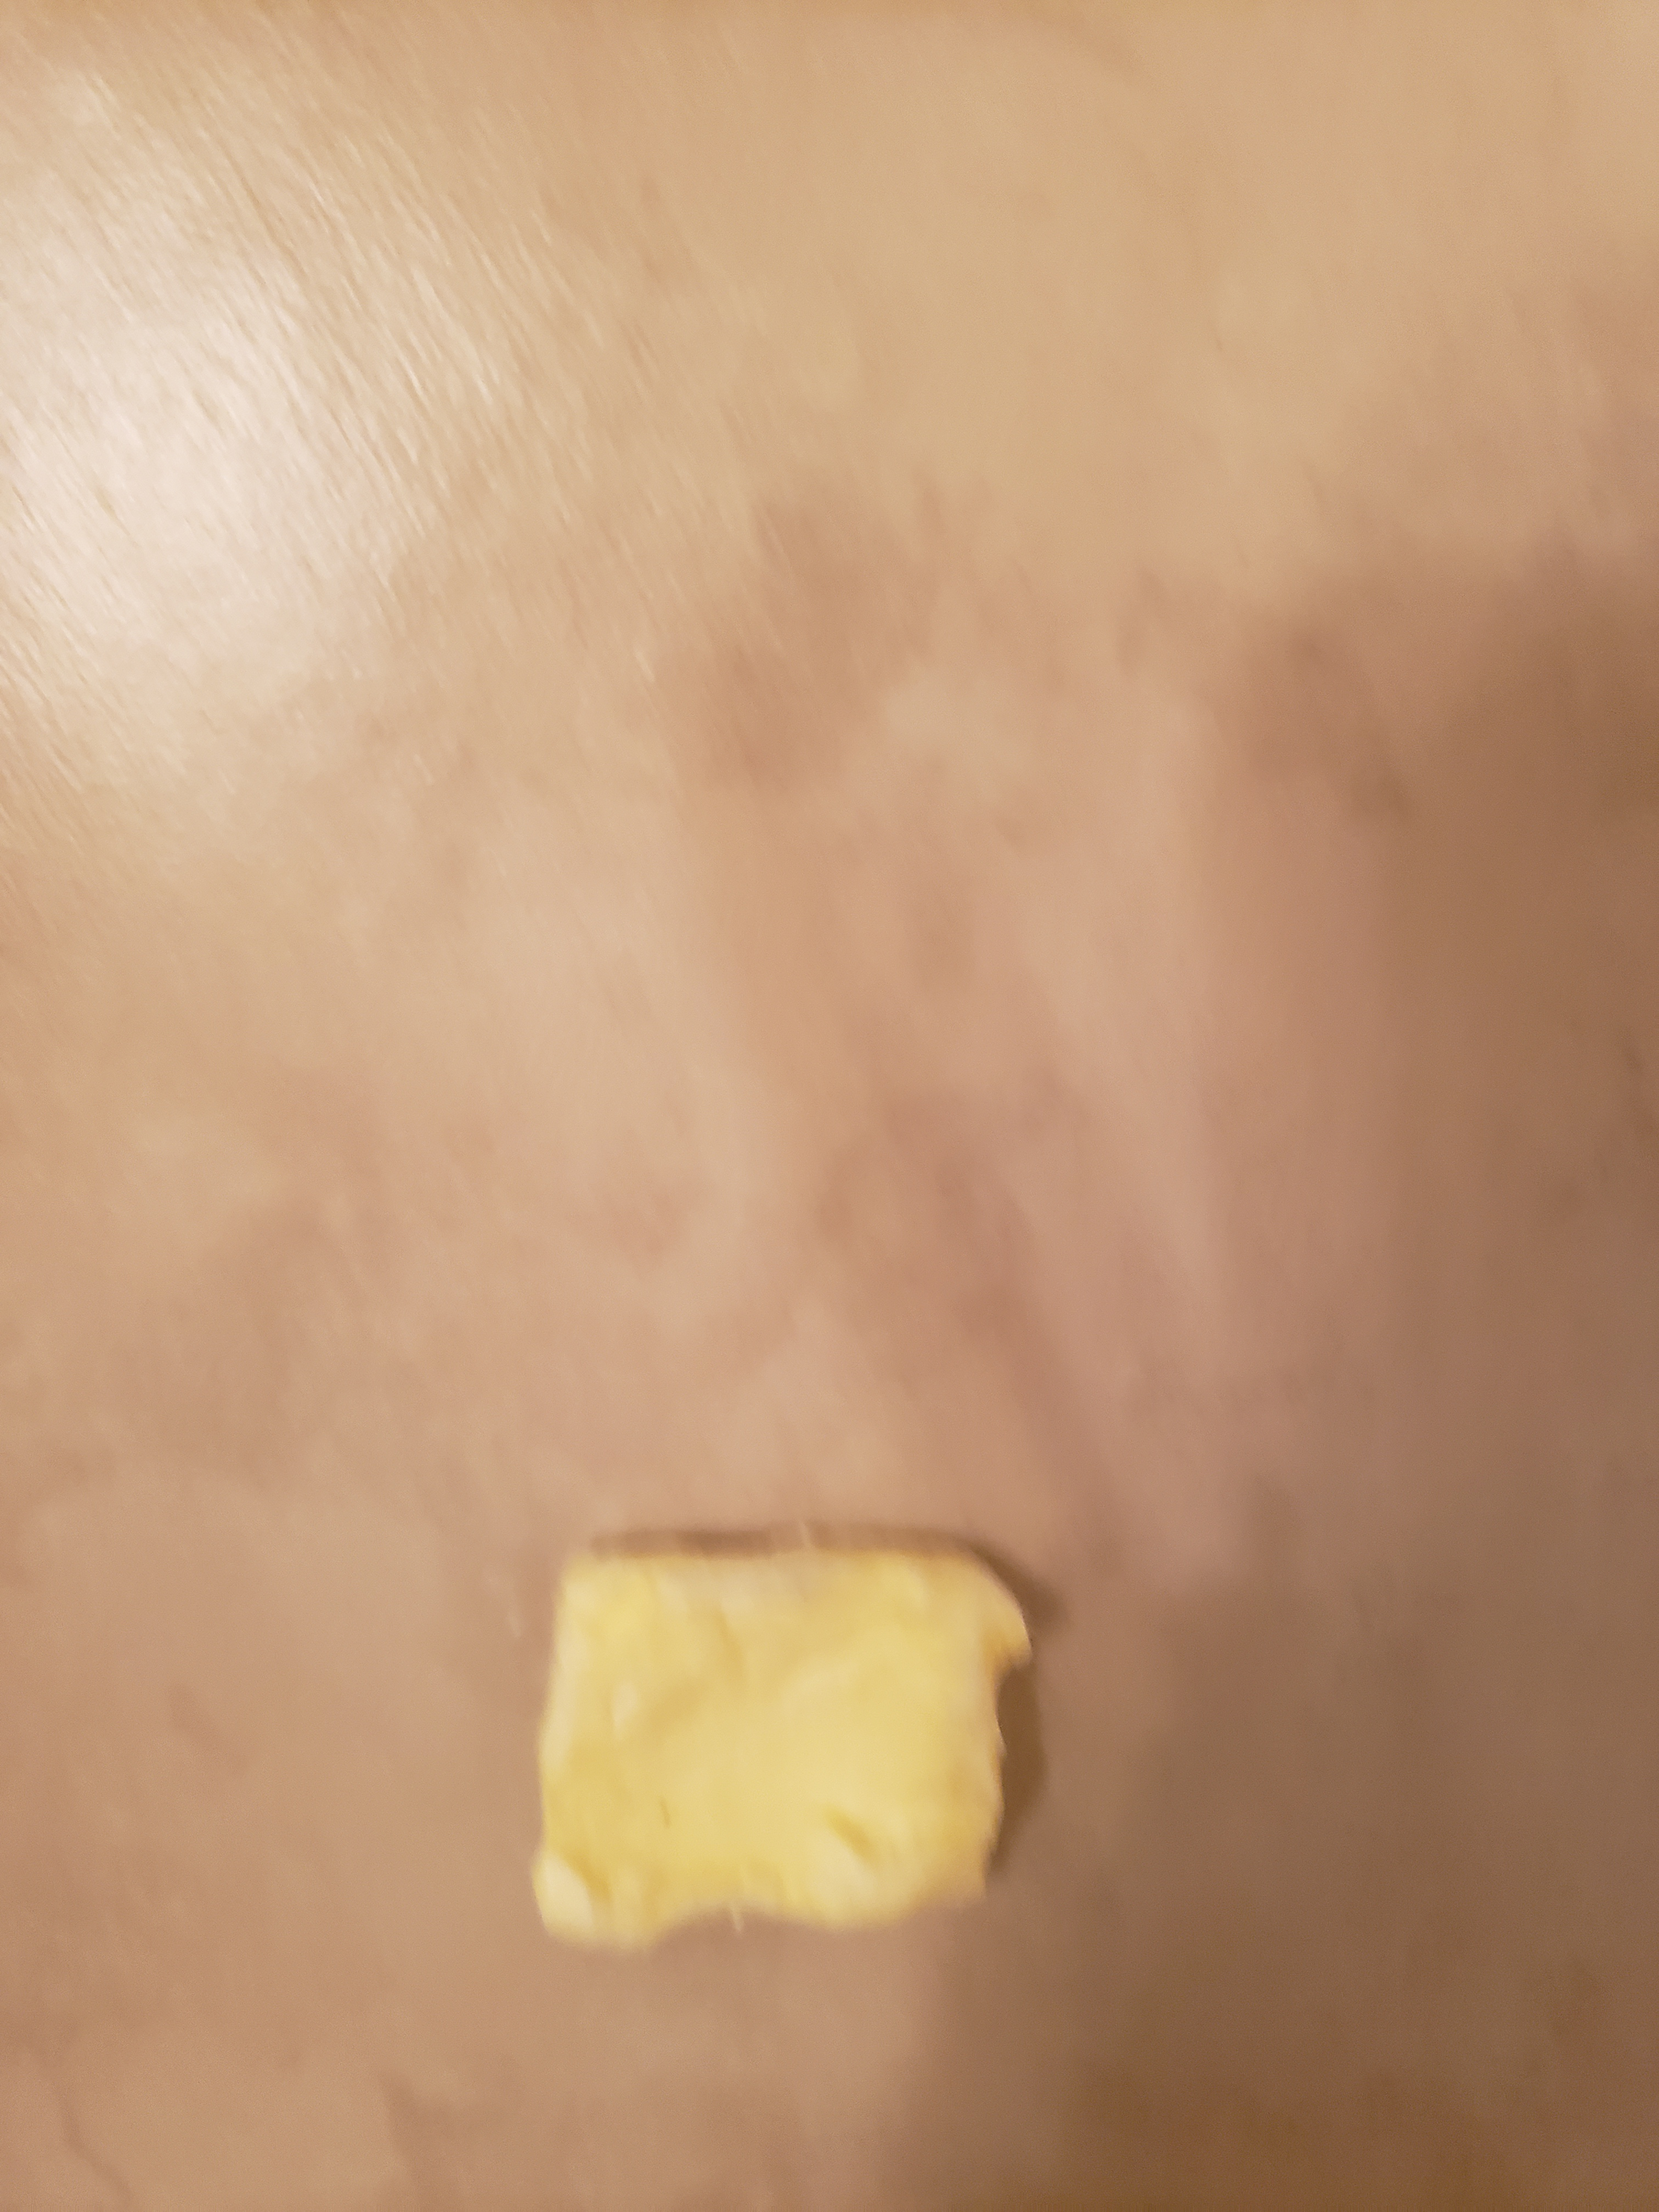Butter: (530, 1545, 1033, 1947)
